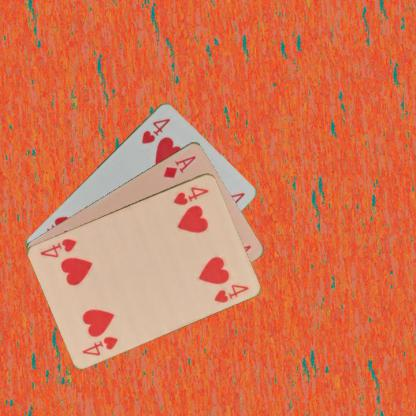4h: (139, 115, 172, 145), (170, 184, 210, 206), (79, 334, 119, 356)
Ad: (160, 153, 198, 179)
